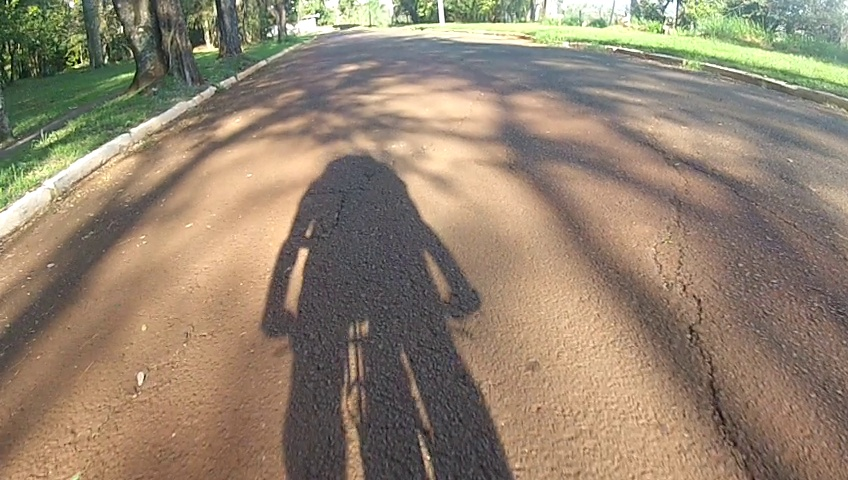TLT: (643, 174, 764, 480), (280, 161, 383, 253)
